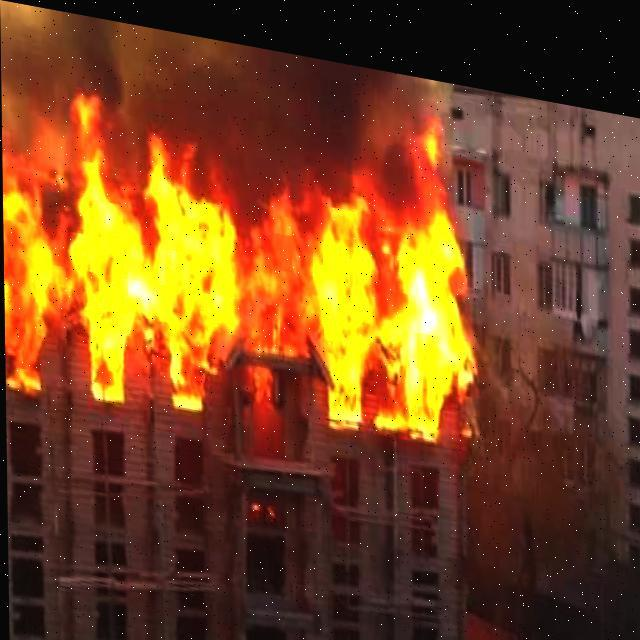Fire: (2, 64, 477, 442)
